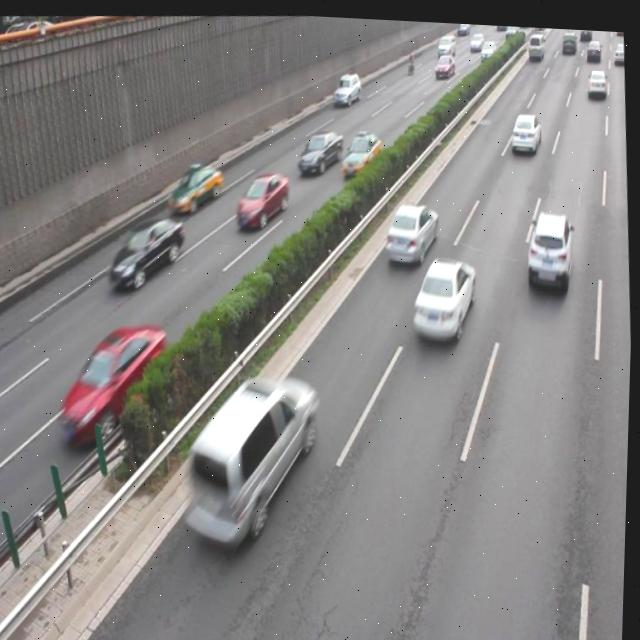car: (55, 317, 173, 449), (107, 209, 188, 293), (410, 248, 480, 340), (524, 203, 576, 287), (382, 195, 440, 264), (234, 166, 292, 230), (166, 159, 225, 217), (296, 125, 344, 175), (340, 128, 384, 175), (508, 106, 542, 150), (331, 67, 363, 103)
truck: (178, 364, 324, 552)
